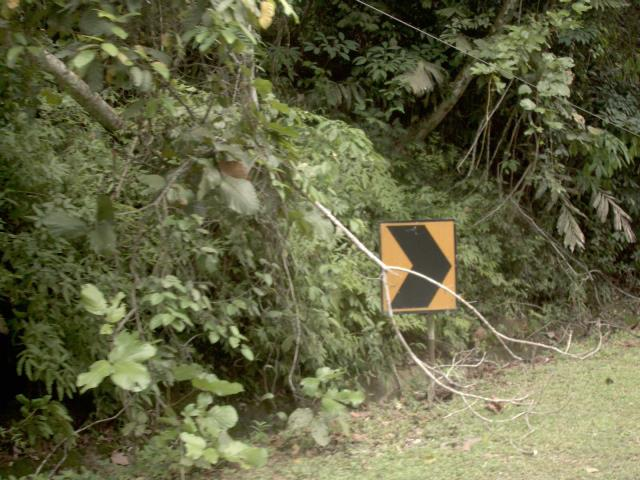traffic_sign: (370, 203, 471, 332)
